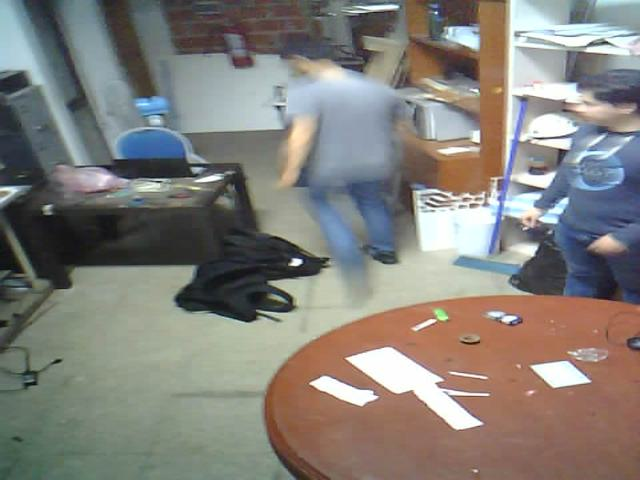person: (255, 31, 440, 303)
